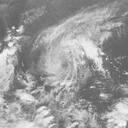cyclone: (34, 26, 103, 98)
